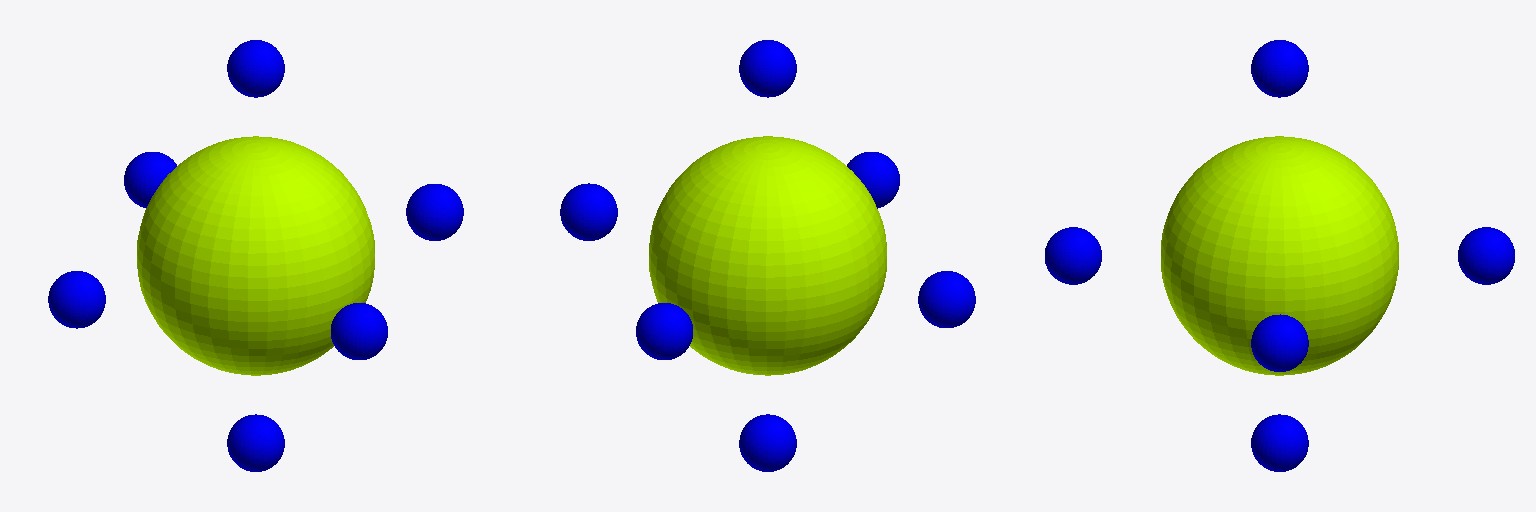
The picture shows the model from 3 angles: view 1: azimuth 30°, elevation 25°; view 2: azimuth 150°, elevation 25°; view 3: azimuth 270°, elevation 25°; orthographic projection.
Parts seen in each view (by area): view 1: Sphere_Sphere.001, Sphere.002_Sphere.003, Sphere.001_Sphere.002, Sphere.003_Sphere.004, Sphere.006_Sphere.007, Sphere.005_Sphere.006, Sphere.004_Sphere.005; view 2: Sphere_Sphere.001, Sphere.006_Sphere.007, Sphere.001_Sphere.002, Sphere.003_Sphere.004, Sphere.002_Sphere.003, Sphere.004_Sphere.005, Sphere.005_Sphere.006; view 3: Sphere_Sphere.001, Sphere.001_Sphere.002, Sphere.003_Sphere.004, Sphere.006_Sphere.007, Sphere.004_Sphere.005, Sphere.005_Sphere.006.
Part boxes in pixels (bbox=[...]): Sphere_Sphere.001: bbox=[137, 136, 374, 375]; Sphere.002_Sphere.003: bbox=[48, 271, 105, 328]; Sphere.001_Sphere.002: bbox=[227, 40, 284, 97]; Sphere.003_Sphere.004: bbox=[227, 414, 284, 471]; Sphere.006_Sphere.007: bbox=[406, 184, 463, 240]; Sphere.005_Sphere.006: bbox=[331, 303, 387, 359]; Sphere.004_Sphere.005: bbox=[124, 152, 176, 207]; Sphere_Sphere.001: bbox=[649, 136, 886, 375]; Sphere.006_Sphere.007: bbox=[560, 183, 617, 240]; Sphere.001_Sphere.002: bbox=[739, 40, 796, 97]; Sphere.003_Sphere.004: bbox=[739, 414, 796, 471]; Sphere.002_Sphere.003: bbox=[918, 271, 975, 327]; Sphere.004_Sphere.005: bbox=[636, 303, 692, 359]; Sphere.005_Sphere.006: bbox=[847, 152, 899, 208]; Sphere_Sphere.001: bbox=[1161, 136, 1398, 375]; Sphere.001_Sphere.002: bbox=[1251, 40, 1308, 97]; Sphere.003_Sphere.004: bbox=[1251, 414, 1308, 471]; Sphere.006_Sphere.007: bbox=[1251, 314, 1308, 371]; Sphere.004_Sphere.005: bbox=[1458, 227, 1514, 284]; Sphere.005_Sphere.006: bbox=[1045, 227, 1101, 284].
Size of the model in its own units: 0.7869 by 0.7871 by 0.7868.